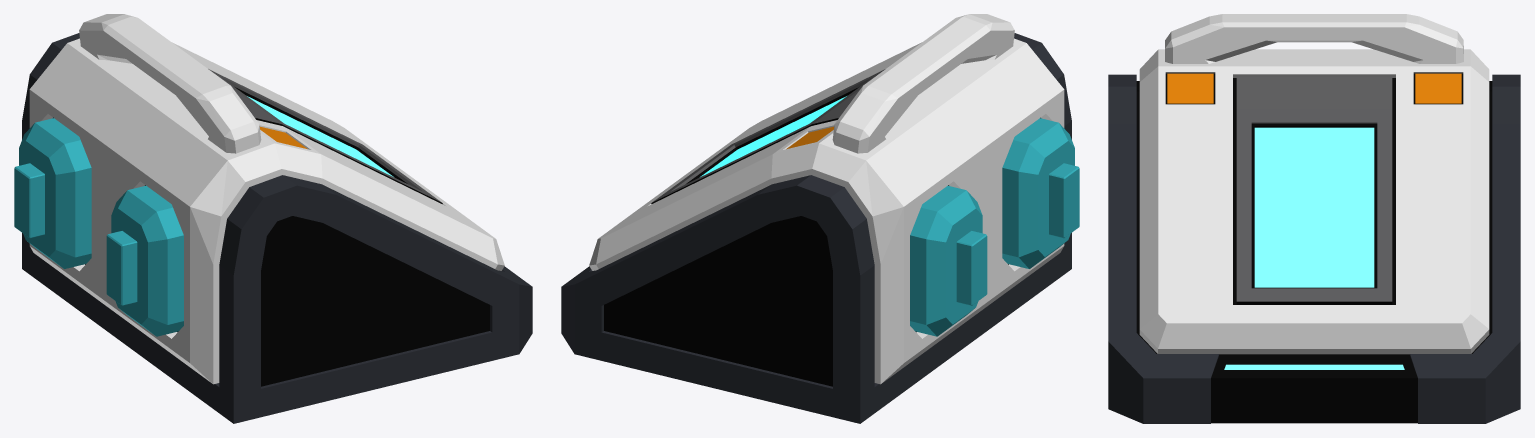
File: SM_DefibrillatorStation.fbx
3 views of the same model, side by side, from view 1: azimuth 30°, elevation 25°; view 2: azimuth 150°, elevation 25°; view 3: azimuth 270°, elevation 25° (orthographic). The views are drawn at different scales.
Visible parts, largest first — view 1: SM_DefibrillatorStation; view 2: SM_DefibrillatorStation; view 3: SM_DefibrillatorStation.
Boxes of the visible parts, left/top/right/bottom form: SM_DefibrillatorStation: left=14, top=14, right=532, bottom=423; SM_DefibrillatorStation: left=561, top=14, right=1079, bottom=423; SM_DefibrillatorStation: left=1108, top=14, right=1520, bottom=423.
Size of the model in its own units: 41.64 by 29.88 by 40.52.
